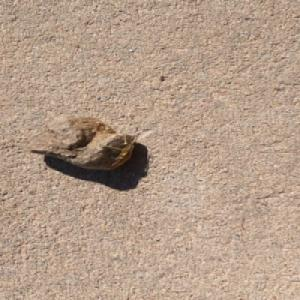Rock: (18, 111, 136, 170)
